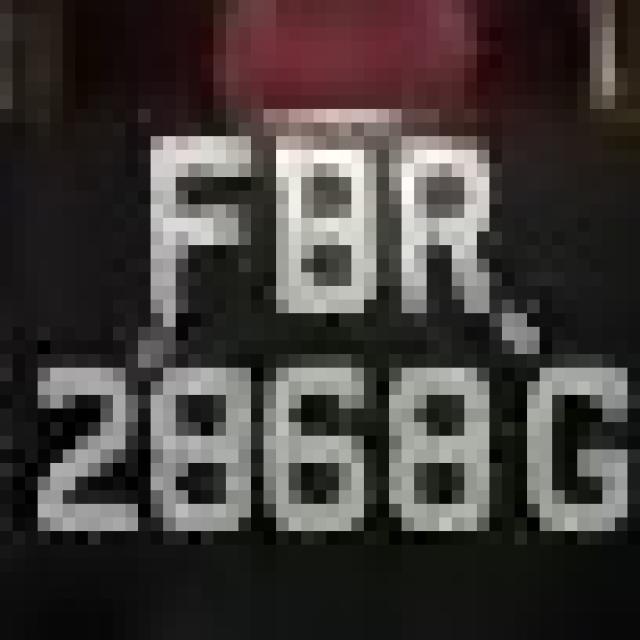2: (13, 368, 138, 586)
6: (238, 327, 364, 558)
8: (376, 354, 502, 558), (138, 326, 251, 544)
B: (264, 95, 376, 354)
F: (100, 109, 226, 327)
G: (10, 7, 13, 12)
R: (364, 123, 514, 354)
